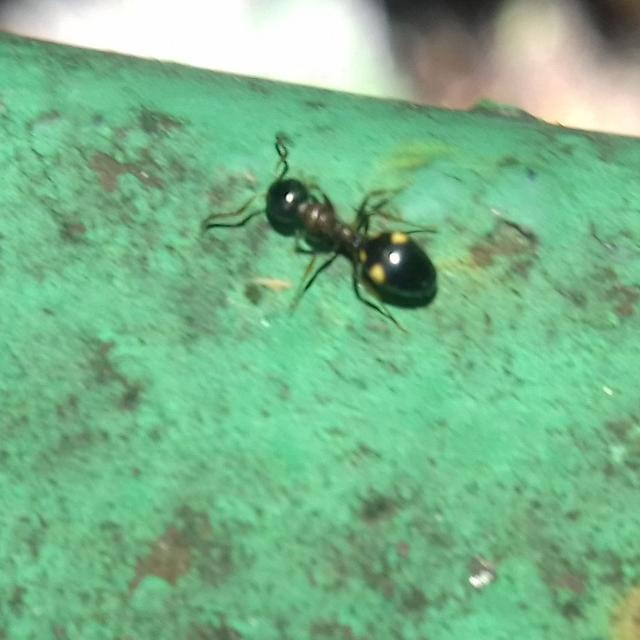Dolichoderus: (222, 138, 468, 336)
